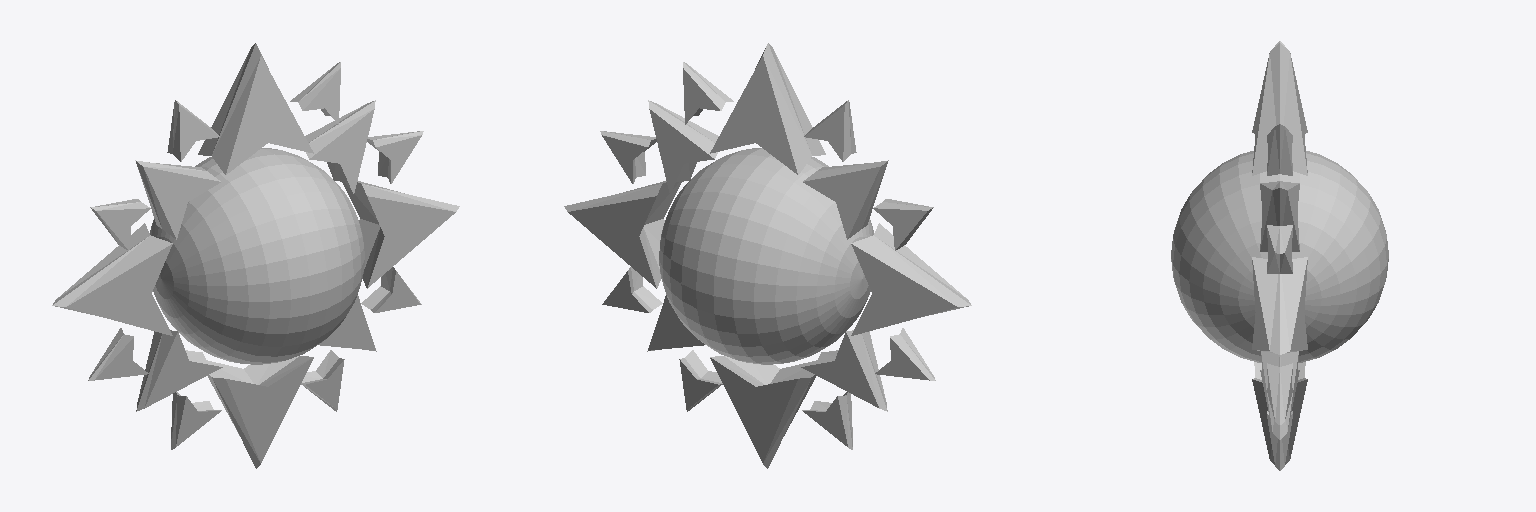
Rendered from sun.obj.
3 renders of one model, left to right at view 1: azimuth 30°, elevation 25°; view 2: azimuth 150°, elevation 25°; view 3: azimuth 270°, elevation 25°, orthographic.
Parts seen in each view (by area): view 1: Sphere; view 2: Sphere; view 3: Sphere.
Boxes of the visible parts, box(x1,y1,x2,y2) form: Sphere: box(52, 43, 459, 468); Sphere: box(564, 43, 971, 468); Sphere: box(1171, 41, 1388, 470).
Bounding box in the file's own units: 6.04 × 6.04 × 2.8.